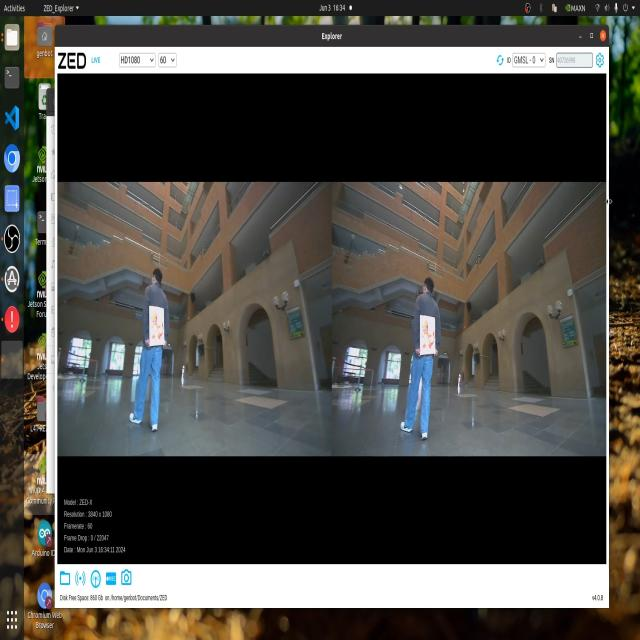red: (419, 316, 438, 356), (149, 307, 163, 341)
